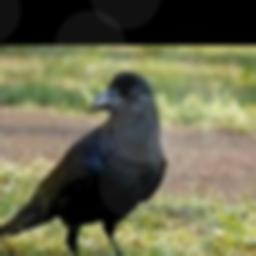Crow: (0, 71, 166, 256)
